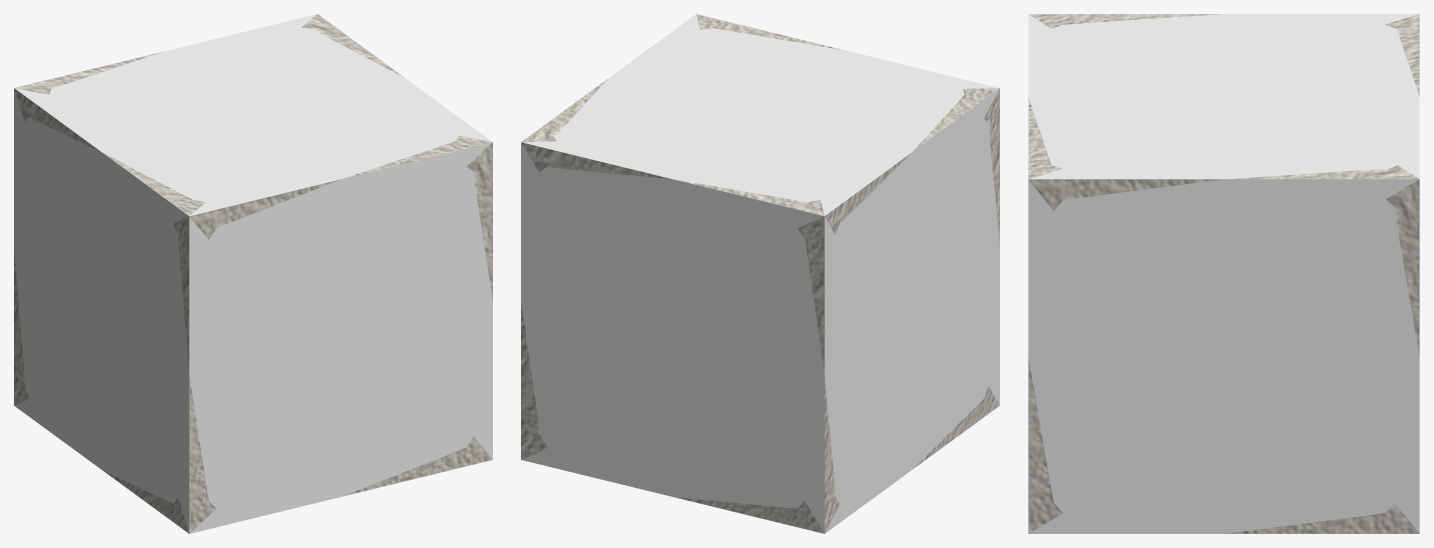
3 views of the same model, side by side, from view 1: azimuth 30°, elevation 25°; view 2: azimuth 150°, elevation 25°; view 3: azimuth 270°, elevation 25° (orthographic). The views are drawn at different scales.
Parts seen in each view (by area): view 1: object2aura, object2detail; view 2: object2aura, object2detail; view 3: object2aura, object2detail.
Boxes of the visible parts, bbox=[...] form: object2aura: bbox=[14, 14, 492, 533]; object2detail: bbox=[14, 14, 492, 533]; object2aura: bbox=[521, 14, 999, 533]; object2detail: bbox=[521, 14, 999, 533]; object2aura: bbox=[1028, 14, 1419, 533]; object2detail: bbox=[1028, 14, 1419, 533].
Bounding box in the file's own units: 13.74 × 13.74 × 13.74.
Materials: 2 (2 with a texture image).
